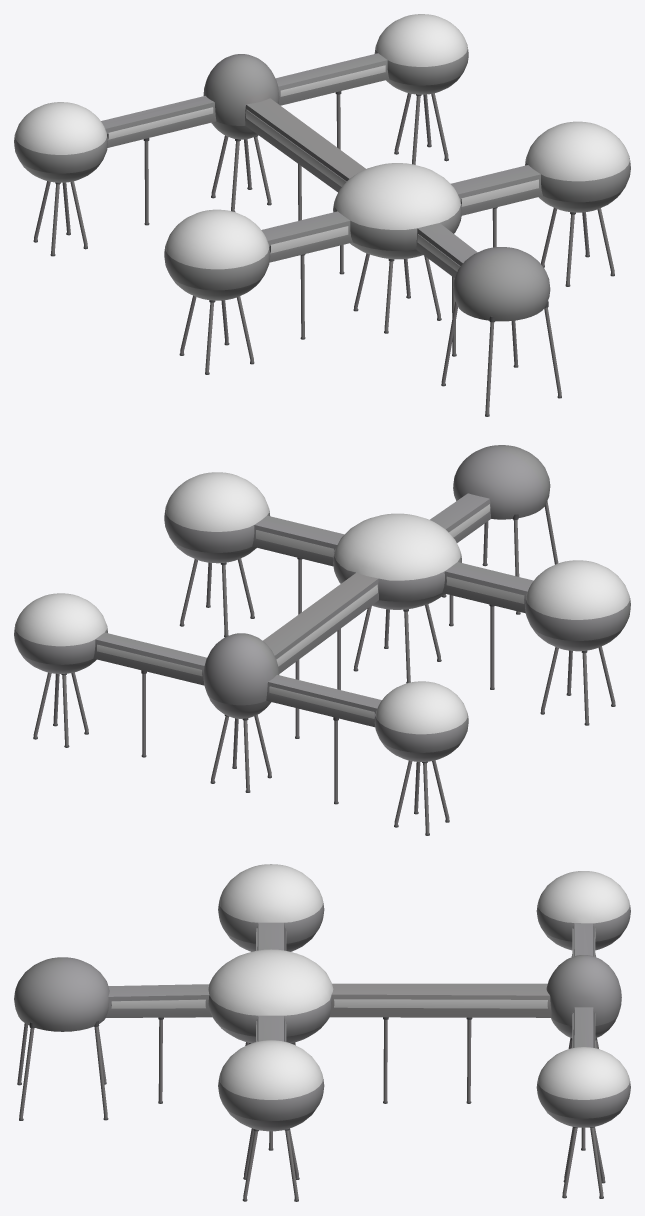
File: highDeatiled.fbx
3 views of the same model, one above another, from view 1: azimuth 30°, elevation 25°; view 2: azimuth 150°, elevation 25°; view 3: azimuth 270°, elevation 25° (orthographic).
Parts seen in each view (by area): view 1: base; view 2: base; view 3: base.
Part boxes in pixels (box(x1,y1,x2,y2)): base: box(14, 14, 630, 416); base: box(14, 445, 630, 835); base: box(14, 864, 630, 1201).
Size of the model in its own units: 251030 by 76366 by 296026.
